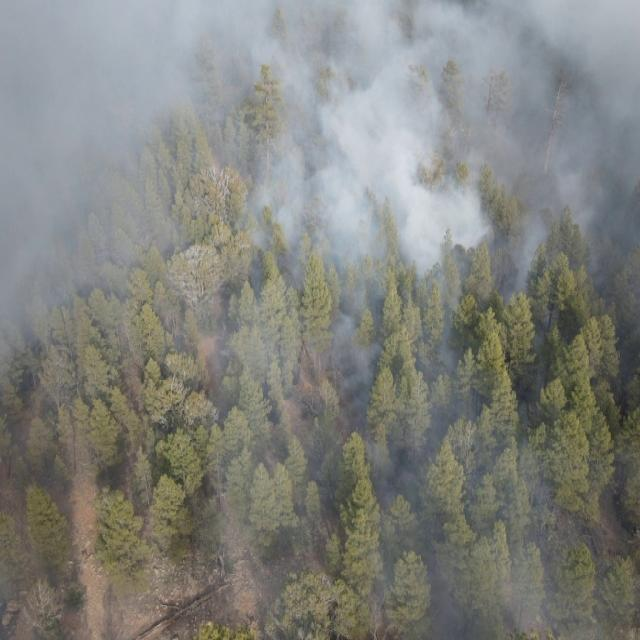smoke: (0, 1, 640, 270), (193, 271, 640, 640), (0, 268, 192, 370), (2, 562, 193, 640)
